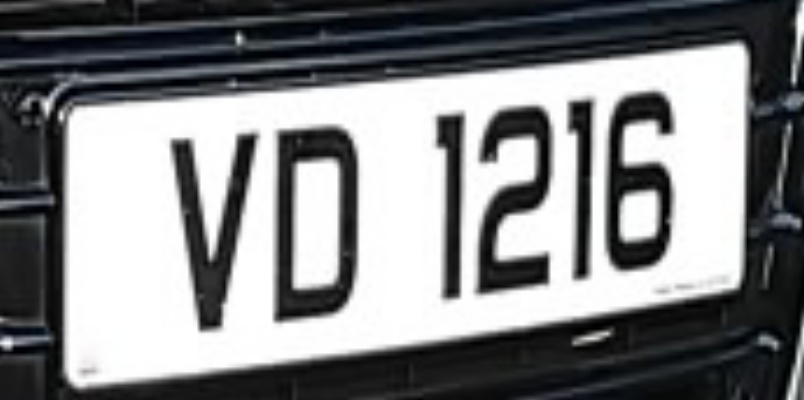1: (409, 95, 478, 328), (555, 81, 610, 303)
2: (475, 87, 560, 309)
6: (601, 75, 687, 292)
D: (263, 108, 374, 337)
V: (151, 113, 267, 349)
